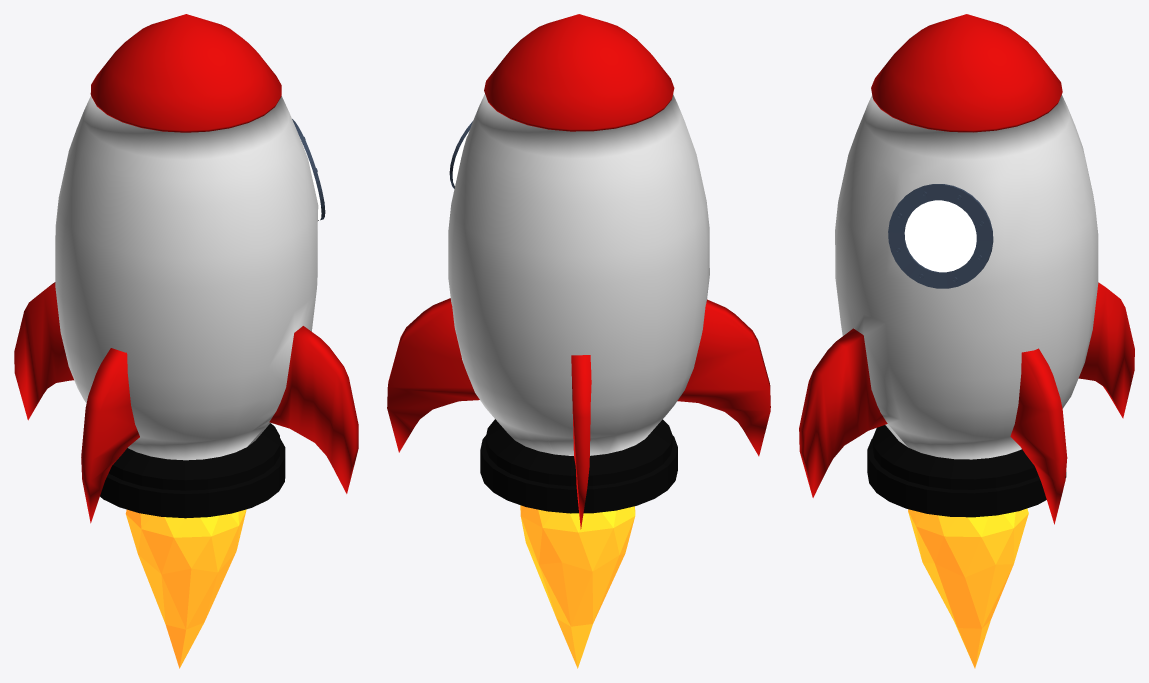
Rendered from rocket-transformed.glb.
The picture shows the model from 3 angles, left to right: view 1: azimuth 30°, elevation 25°; view 2: azimuth 150°, elevation 25°; view 3: azimuth 270°, elevation 25°; orthographic projection.
Parts seen in each view (by area): view 1: Cylinder, Icosphere; view 2: Cylinder, Icosphere; view 3: Cylinder, Icosphere.
Boxes of the visible parts, left/top/right/bottom form: Cylinder: left=14, top=14, right=358, bottom=523; Icosphere: left=125, top=509, right=246, bottom=668; Cylinder: left=387, top=14, right=770, bottom=529; Icosphere: left=520, top=505, right=635, bottom=668; Cylinder: left=799, top=14, right=1134, bottom=524; Icosphere: left=908, top=508, right=1028, bottom=668.
Bounding box in the file's own units: 2.43 × 5.15 × 2.39.
